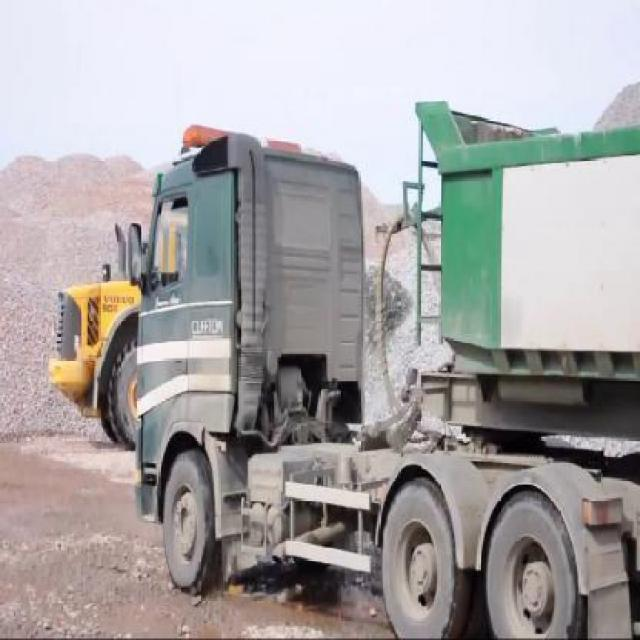Dump Truck: (135, 99, 639, 636)
